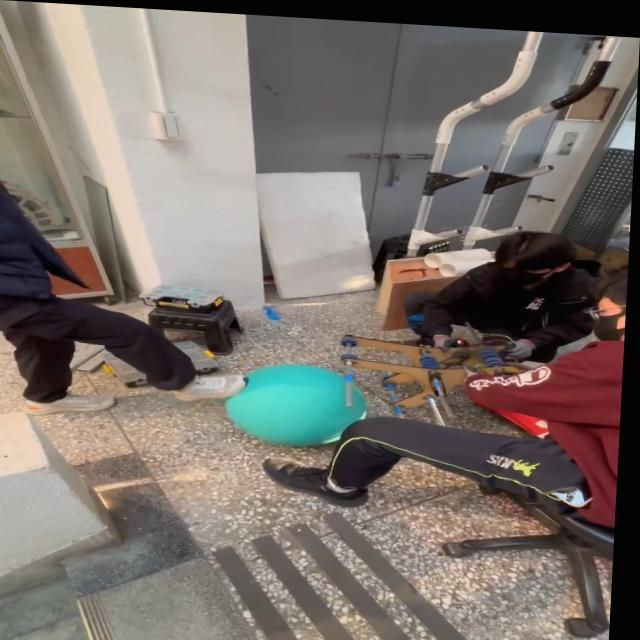ALGAE: (220, 359, 371, 452)
